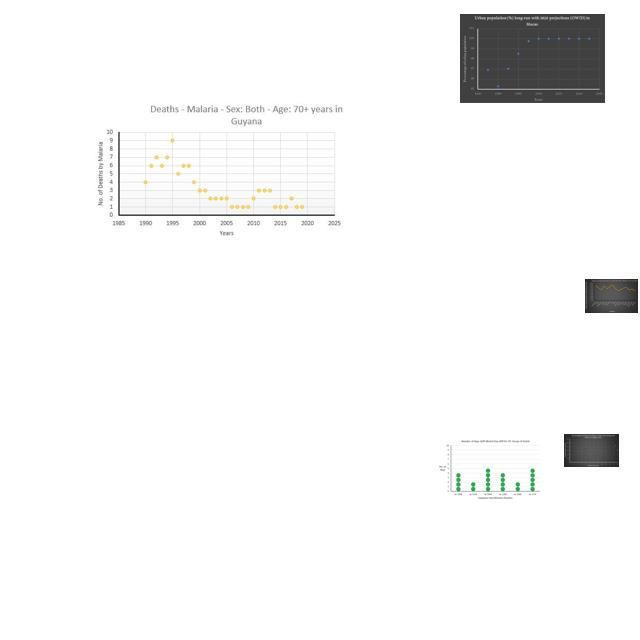Graph: (90, 98, 345, 241), (460, 14, 605, 103), (437, 439, 542, 501), (564, 434, 619, 467), (585, 279, 638, 313)
